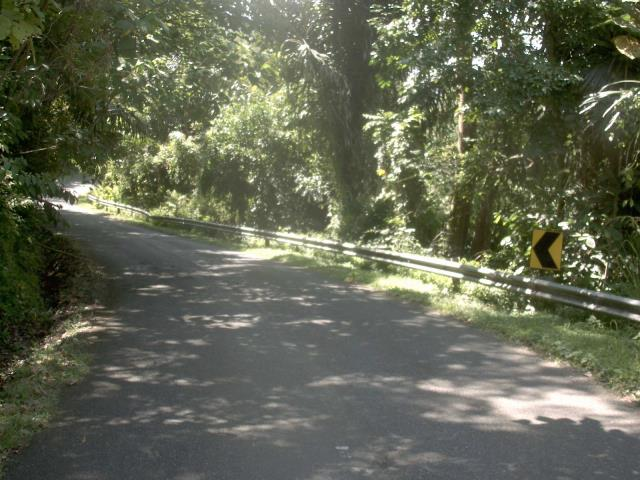traffic_sign: (519, 220, 571, 282)
